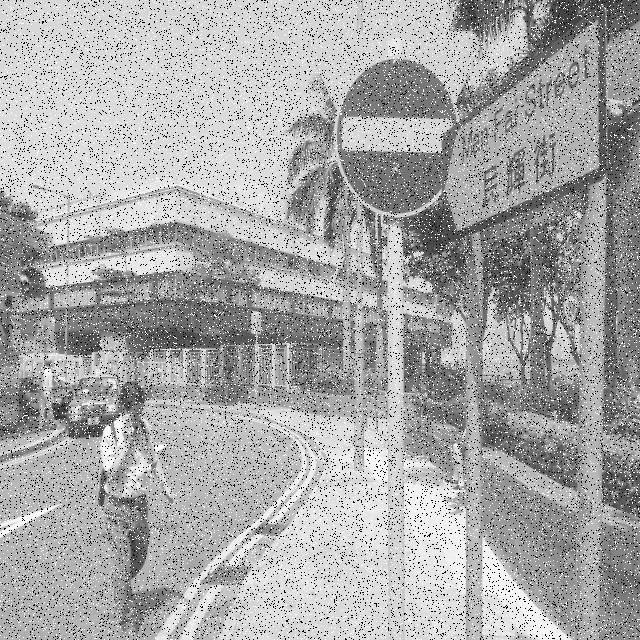no entry: (336, 50, 462, 218)
